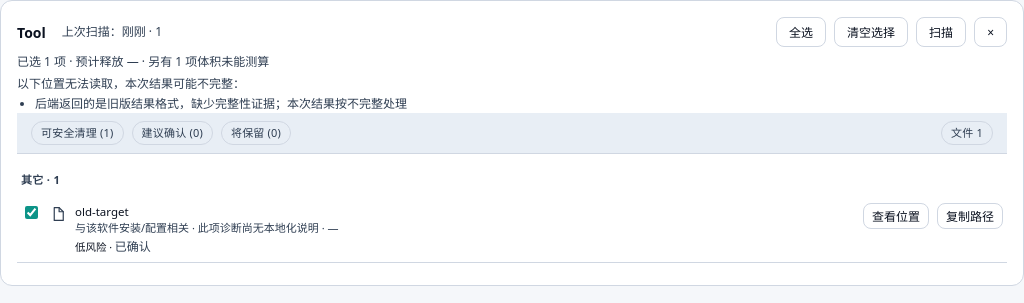
it: discards cancelled installer refresh targets and keeps cleanup disabled
The image size is (1024, 303).
Check: the text "old-target" is shown, box [75,204,129,219]
Click the button "扫描".
click(941, 32)  # box [916,17,966,47]
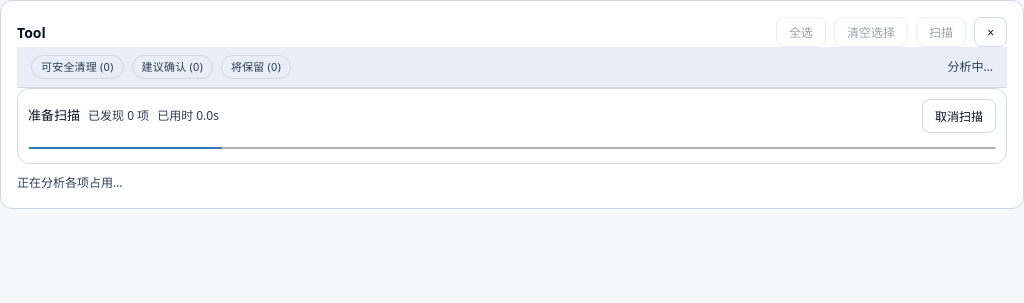
Check: the text "old-target" is gone
Click the button "取消扫描".
click(959, 116)  # box [922,99,996,133]
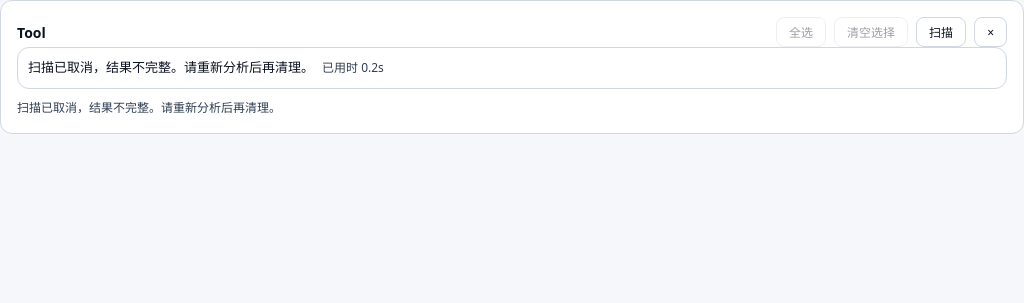
Check: the button "清理选中项 (0)" is disabled, box [648,17,768,47]
Check: the message reads "扫描已取消，结果不完整。请重新分析后再清理。", box [28,58,314,76]
